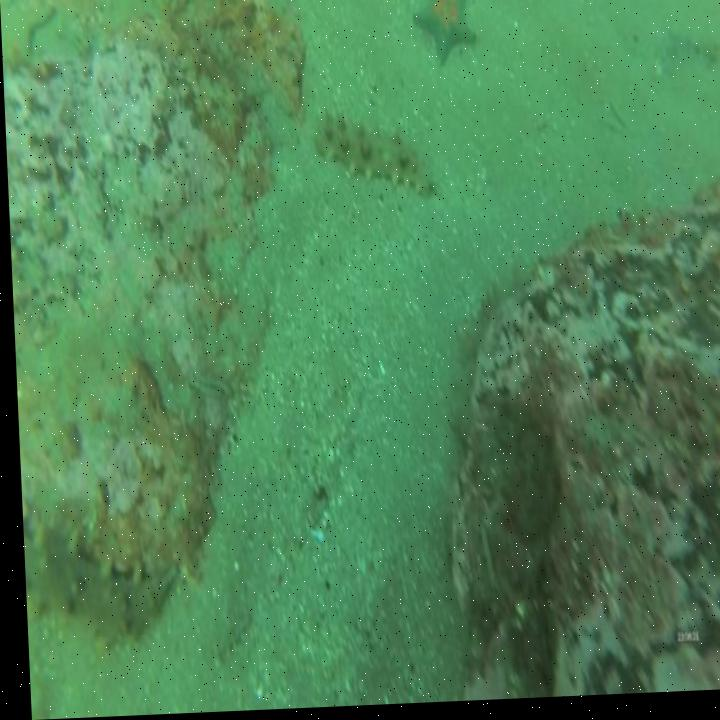holothurian: (19, 532, 164, 651), (310, 104, 432, 206)
starfish: (410, 0, 480, 73)
